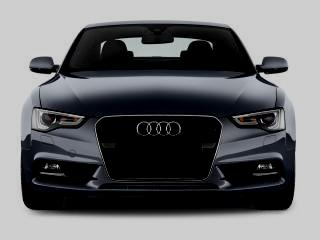Audi: (132, 116, 187, 141)
